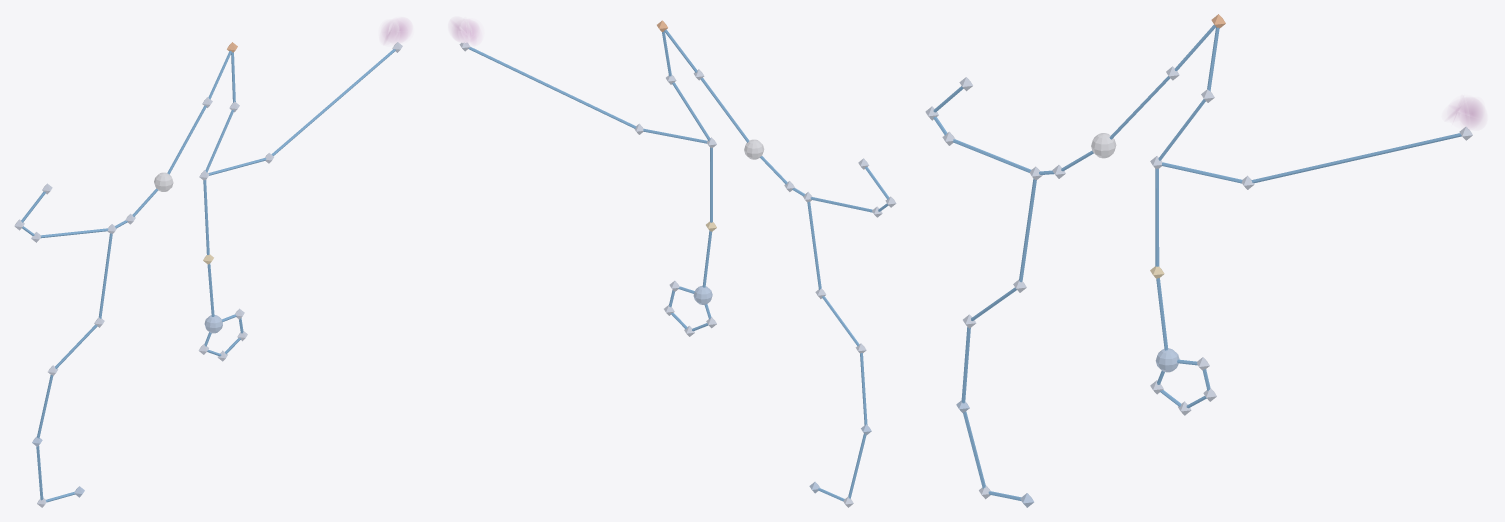
Rendered from constellation-per.glb.
3 renders of one model, left to right at view 1: azimuth 30°, elevation 25°; view 2: azimuth 150°, elevation 25°; view 3: azimuth 330°, elevation 25°, orthographic. The views are drawn at different scales.
Bounding box in the file's own units: 2.64 × 2.55 × 0.41.
